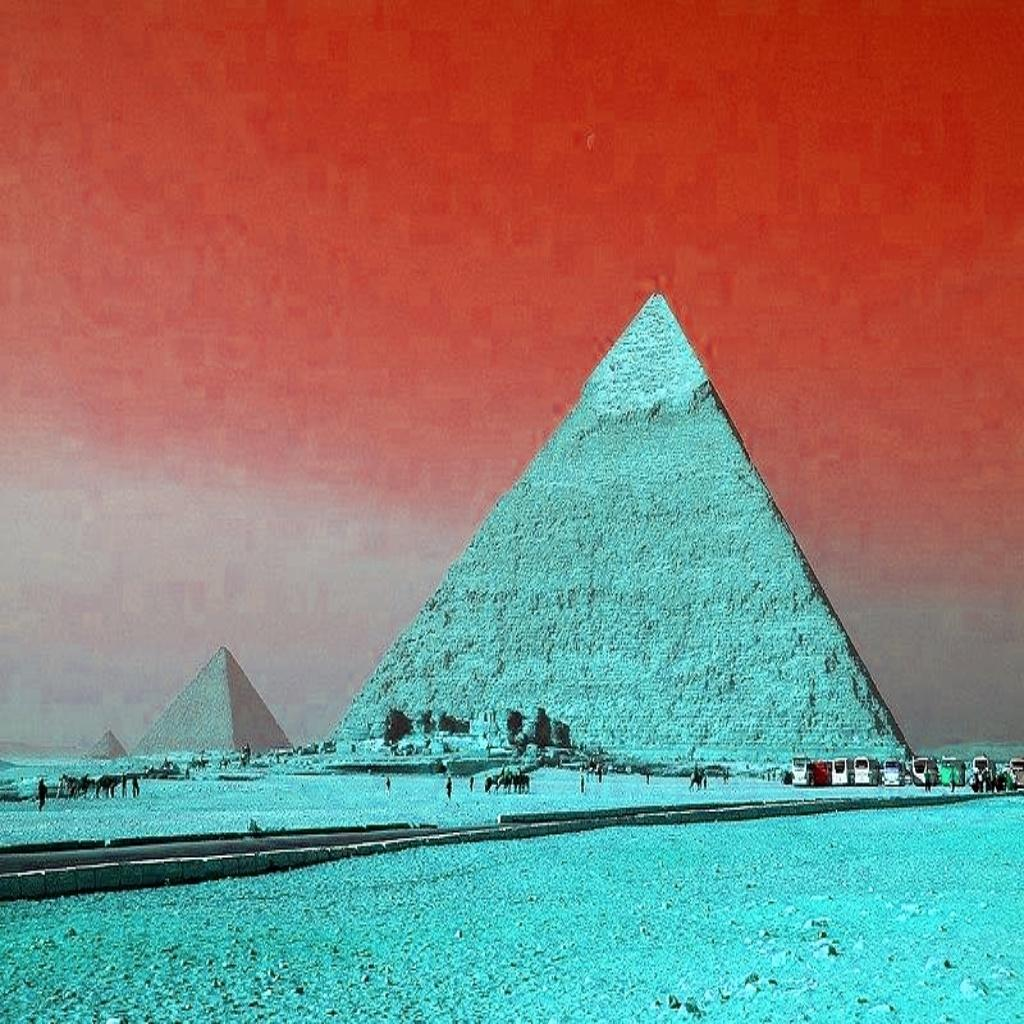Great Pyramids of Giza: (326, 288, 916, 770)
